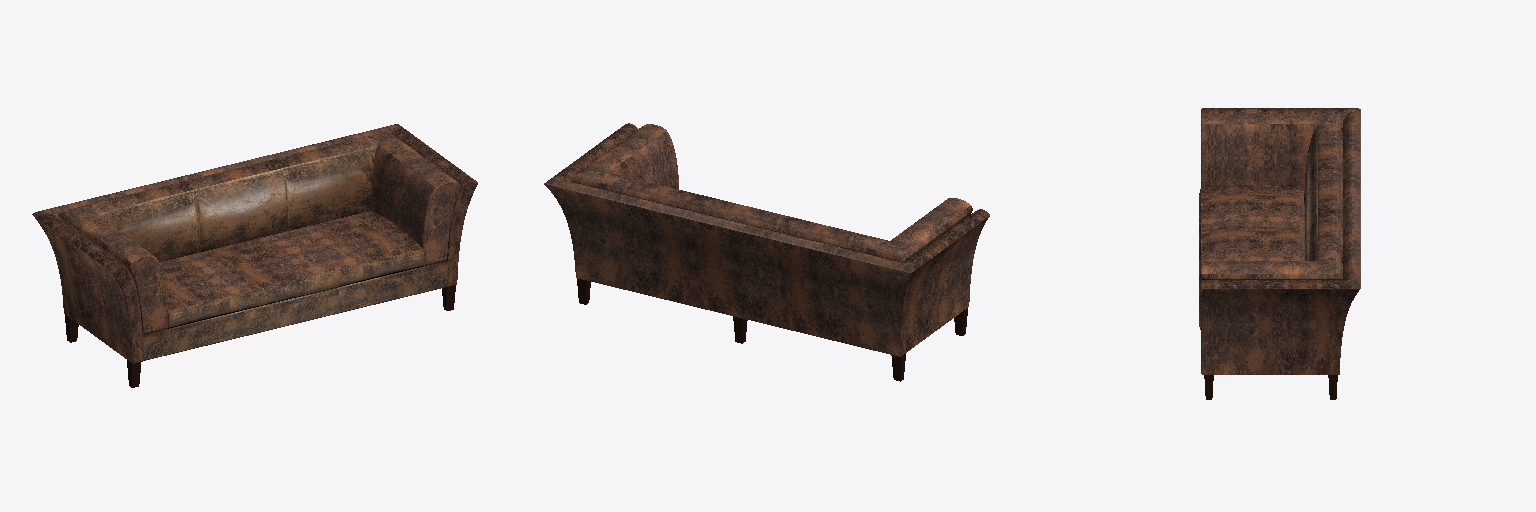
The picture shows the model from 3 angles: view 1: azimuth 30°, elevation 25°; view 2: azimuth 150°, elevation 25°; view 3: azimuth 270°, elevation 25°; orthographic projection.
Parts seen in each view (by area): view 1: Mesh1 Group1 KARE_78361_Sofa_Canapee_3_Sitzer_Vinta__Sofa_Canape, Mesh11 Group11 Component_11_2 KARE_78361_Sofa_Canapee_3_Sitzer_V, Mesh5 Group5 Component_11_1 KARE_78361_Sofa_Canapee_3_Sitzer_Vin, Mesh3 Group3 Component_11_1 KARE_78361_Sofa_Canapee_3_Sitzer_Vin, Mesh12 Group12 Component_11_2 KARE_78361_Sofa_Canapee_3_Sitzer_V, Mesh6 Group6 Component_11_1 KARE_78361_Sofa_Canapee_3_Sitzer_Vin, Mesh9 Group9 Component_11_2 KARE_78361_Sofa_Canapee_3_Sitzer_Vin, Mesh4 Group4 Component_11_1 KARE_78361_Sofa_Canapee_3_Sitzer_Vin, Mesh10 Group10 Component_11_2 KARE_78361_Sofa_Canapee_3_Sitzer_V; view 2: Mesh3 Group3 Component_11_1 KARE_78361_Sofa_Canapee_3_Sitzer_Vin, Mesh9 Group9 Component_11_2 KARE_78361_Sofa_Canapee_3_Sitzer_Vin, Mesh1 Group1 KARE_78361_Sofa_Canapee_3_Sitzer_Vinta__Sofa_Canape, Mesh11 Group11 Component_11_2 KARE_78361_Sofa_Canapee_3_Sitzer_V, Mesh5 Group5 Component_11_1 KARE_78361_Sofa_Canapee_3_Sitzer_Vin; view 3: Mesh9 Group9 Component_11_2 KARE_78361_Sofa_Canapee_3_Sitzer_Vin, Mesh5 Group5 Component_11_1 KARE_78361_Sofa_Canapee_3_Sitzer_Vin, Mesh1 Group1 KARE_78361_Sofa_Canapee_3_Sitzer_Vinta__Sofa_Canape, Mesh11 Group11 Component_11_2 KARE_78361_Sofa_Canapee_3_Sitzer_V, Mesh6 Group6 Component_11_1 KARE_78361_Sofa_Canapee_3_Sitzer_Vin, Mesh3 Group3 Component_11_1 KARE_78361_Sofa_Canapee_3_Sitzer_Vin.
Part boxes in pixels (bbox=[...]): Mesh1 Group1 KARE_78361_Sofa_Canapee_3_Sitzer_Vinta__Sofa_Canape: bbox=[175, 157, 339, 334]; Mesh11 Group11 Component_11_2 KARE_78361_Sofa_Canapee_3_Sitzer_V: bbox=[273, 132, 460, 265]; Mesh5 Group5 Component_11_1 KARE_78361_Sofa_Canapee_3_Sitzer_Vin: bbox=[58, 181, 199, 333]; Mesh3 Group3 Component_11_1 KARE_78361_Sofa_Canapee_3_Sitzer_Vin: bbox=[32, 178, 177, 363]; Mesh12 Group12 Component_11_2 KARE_78361_Sofa_Canapee_3_Sitzer_V: bbox=[288, 211, 423, 286]; Mesh6 Group6 Component_11_1 KARE_78361_Sofa_Canapee_3_Sitzer_Vin: bbox=[160, 253, 252, 328]; Mesh9 Group9 Component_11_2 KARE_78361_Sofa_Canapee_3_Sitzer_Vin: bbox=[263, 124, 477, 286]; Mesh4 Group4 Component_11_1 KARE_78361_Sofa_Canapee_3_Sitzer_Vin: bbox=[143, 308, 251, 360]; Mesh10 Group10 Component_11_2 KARE_78361_Sofa_Canapee_3_Sitzer_V: bbox=[339, 260, 447, 312]; Mesh3 Group3 Component_11_1 KARE_78361_Sofa_Canapee_3_Sitzer_Vin: bbox=[771, 209, 989, 356]; Mesh9 Group9 Component_11_2 KARE_78361_Sofa_Canapee_3_Sitzer_Vin: bbox=[544, 123, 693, 306]; Mesh1 Group1 KARE_78361_Sofa_Canapee_3_Sitzer_Vinta__Sofa_Canape: bbox=[684, 196, 789, 327]; Mesh11 Group11 Component_11_2 KARE_78361_Sofa_Canapee_3_Sitzer_V: bbox=[570, 124, 703, 210]; Mesh5 Group5 Component_11_1 KARE_78361_Sofa_Canapee_3_Sitzer_Vin: bbox=[780, 198, 972, 262]; Mesh9 Group9 Component_11_2 KARE_78361_Sofa_Canapee_3_Sitzer_Vin: bbox=[1201, 216, 1360, 374]; Mesh5 Group5 Component_11_1 KARE_78361_Sofa_Canapee_3_Sitzer_Vin: bbox=[1201, 114, 1342, 233]; Mesh1 Group1 KARE_78361_Sofa_Canapee_3_Sitzer_Vinta__Sofa_Canape: bbox=[1199, 169, 1360, 275]; Mesh11 Group11 Component_11_2 KARE_78361_Sofa_Canapee_3_Sitzer_V: bbox=[1201, 212, 1342, 279]; Mesh6 Group6 Component_11_1 KARE_78361_Sofa_Canapee_3_Sitzer_Vin: bbox=[1199, 185, 1303, 232]; Mesh3 Group3 Component_11_1 KARE_78361_Sofa_Canapee_3_Sitzer_Vin: bbox=[1201, 108, 1360, 179].
Size of the model in its own units: 82.68 by 28.31 by 31.61.
Materials: 4 (2 with a texture image).